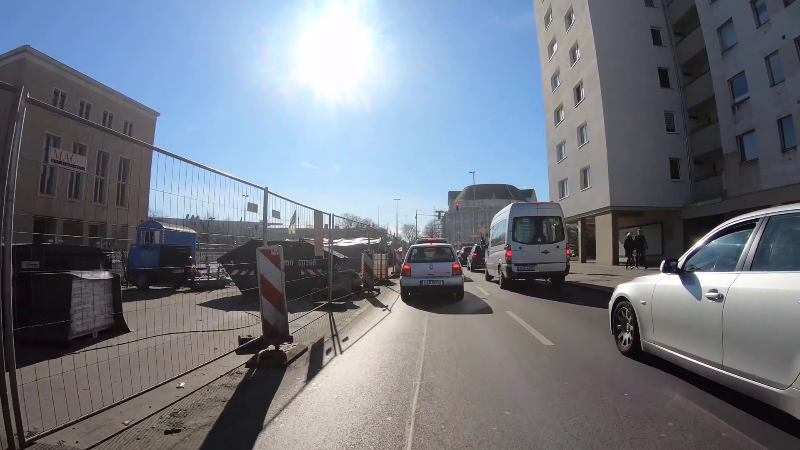Plate: (419, 279, 446, 287), (514, 263, 537, 270)
